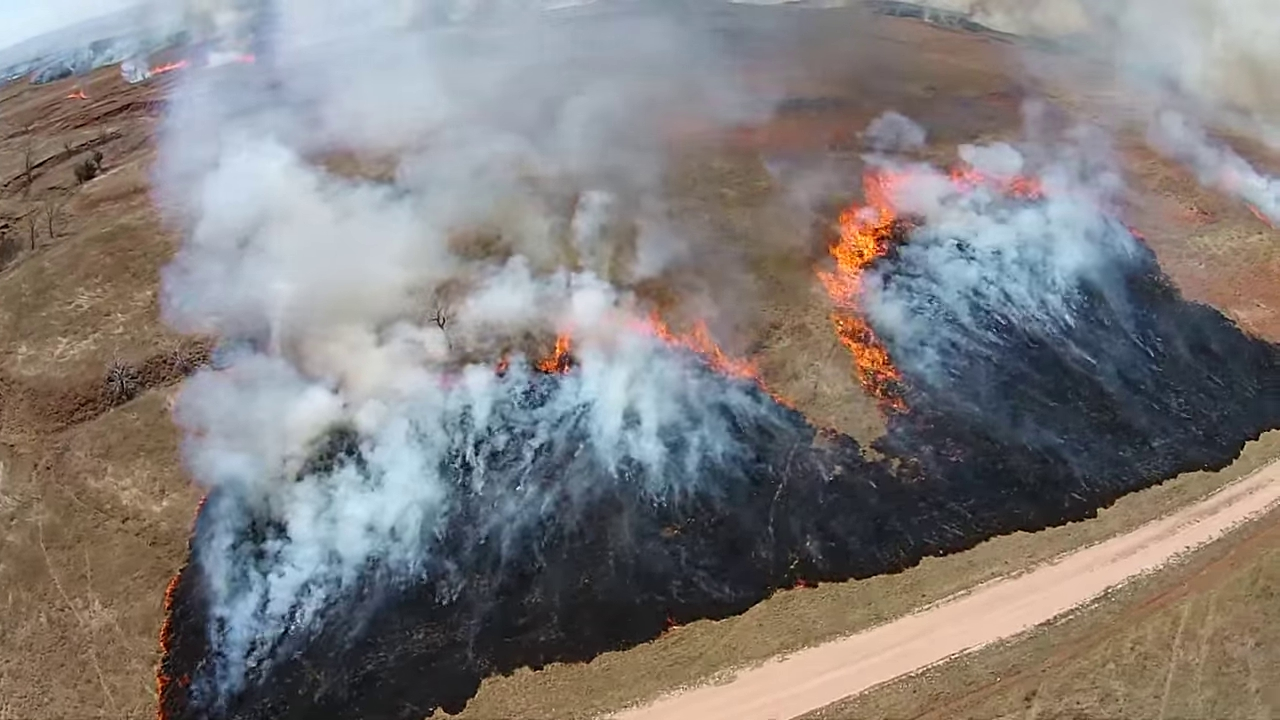forest_fire: (816, 170, 910, 411), (646, 315, 788, 403), (535, 334, 570, 373)
